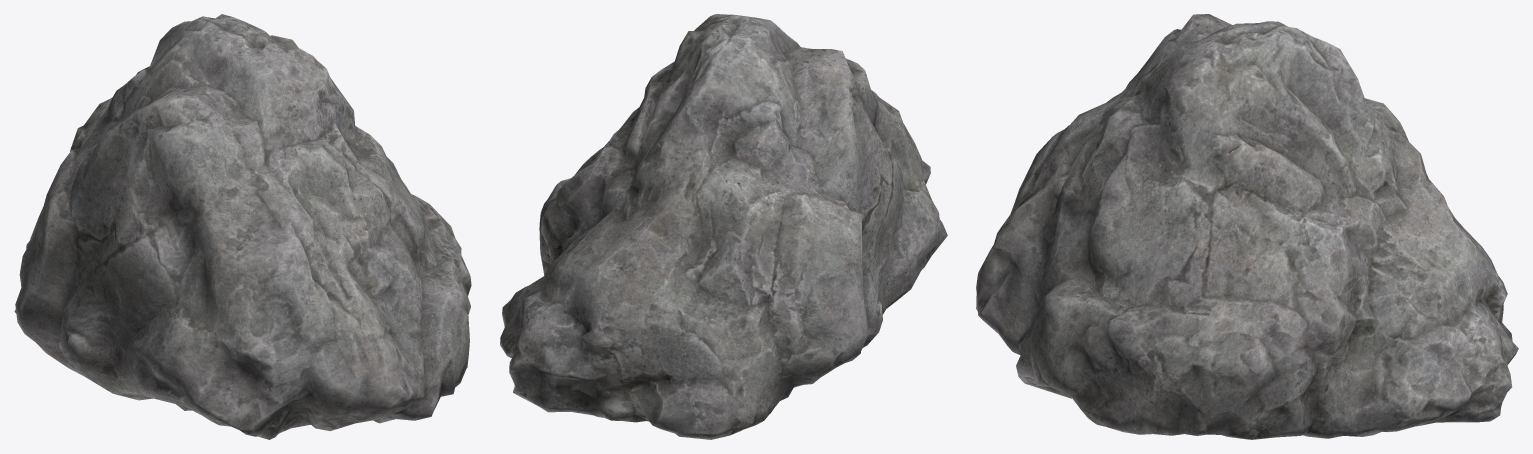
The model's file is SM_Amseog_1.fbx.
3 renders of one model, left to right at view 1: azimuth 30°, elevation 25°; view 2: azimuth 150°, elevation 25°; view 3: azimuth 270°, elevation 25°, orthographic. The views are drawn at different scales.
Visible parts, largest first — view 1: SM_Amseog_1; view 2: SM_Amseog_1; view 3: SM_Amseog_1.
Part boxes in pixels (bbox=[...]): SM_Amseog_1: bbox=[14, 14, 471, 439]; SM_Amseog_1: bbox=[500, 14, 947, 439]; SM_Amseog_1: bbox=[976, 14, 1518, 439].
Bounding box in the file's own units: 246 × 308 × 226.
1 material, 1 textured.
